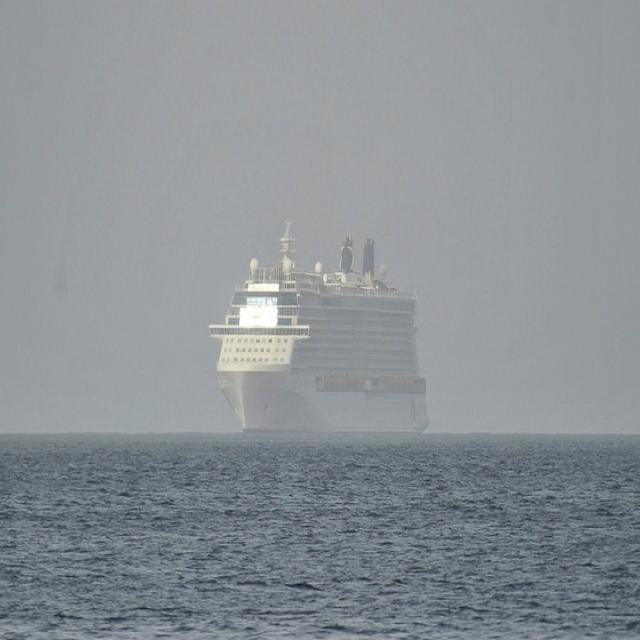passenger ship: (210, 213, 434, 438)
